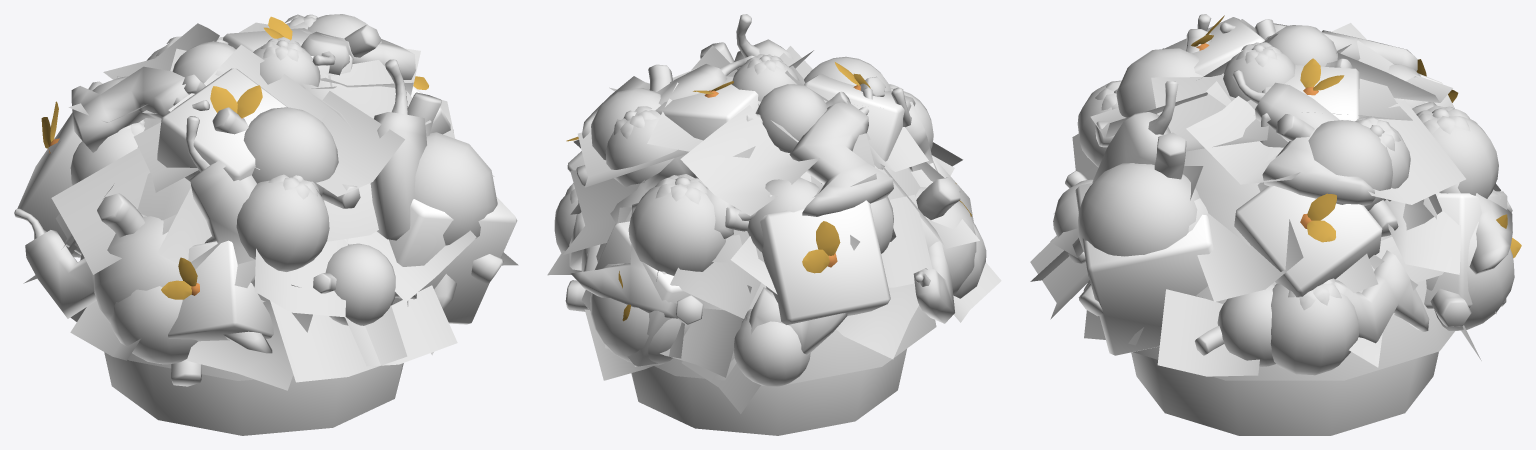
Rendered from Mechanic_BerryBushWithBerries001_Model.fbx.
3 renders of one model, left to right at view 1: azimuth 30°, elevation 25°; view 2: azimuth 150°, elevation 25°; view 3: azimuth 270°, elevation 25°, orthographic. The views are drawn at different scales.
Parts seen in each view (by area): view 1: BerryBush, Blue_Berry.007, White_Berry.003, Yellow_Berry.003, Red_Berry.004; view 2: BerryBush, White_Berry.003, Yellow_Berry.003, Red_Berry.004, Blue_Berry.007; view 3: BerryBush, Blue_Berry.007, White_Berry.003, Yellow_Berry.003, Red_Berry.004.
Boxes of the visible parts, x1,y1,x2,y2 form: BerryBush: (23,22,518,435); Blue_Berry.007: (92,14,503,386); White_Berry.003: (17,16,517,341); Yellow_Berry.003: (14,31,456,353); Red_Berry.004: (66,14,329,364); BerryBush: (547,45,1001,435); White_Berry.003: (566,62,973,366); Yellow_Berry.003: (569,14,954,355); Red_Berry.004: (554,54,986,386); Blue_Berry.007: (565,42,976,365); BerryBush: (1030,19,1501,435); Blue_Berry.007: (1053,19,1514,366); White_Berry.003: (1075,15,1521,355); Yellow_Berry.003: (1083,14,1512,343); Red_Berry.004: (1077,42,1498,375).
Bounding box in the file's own units: 108 × 83.03 × 110.
